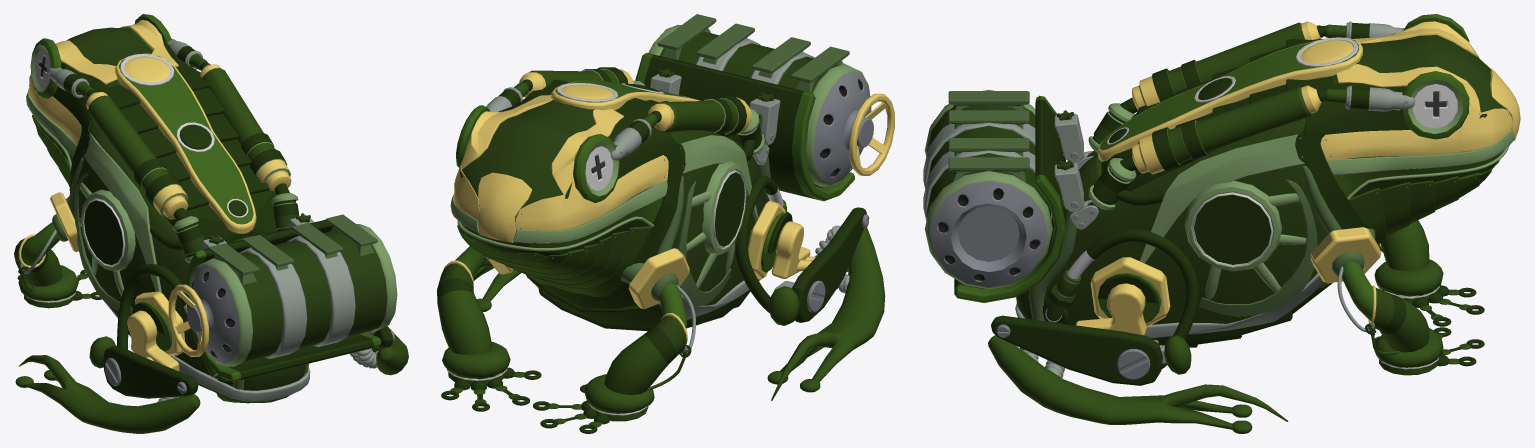
The model's file is Frog.fbx.
3 views of the same model, side by side, from view 1: azimuth 30°, elevation 25°; view 2: azimuth 150°, elevation 25°; view 3: azimuth 270°, elevation 25° (orthographic). The views are drawn at different scales.
Parts seen in each view (by area): view 1: Cube.001, Cube, Cylinder.006, Plane.002, Plane.003, Plane.001, Cube.029, Cube.002, Plane.012, Cube.004, Plane, Cube.016 (+27 smaller); view 2: Cube, Cube.001, Cube.002, Cylinder.001, Plane.001, Plane.005, Cube.009, Cylinder.006, Plane.012, Plane.011, Cube.012, Cube.015 (+30 smaller); view 3: Cube, Cube.001, Cylinder.006, Plane.001, Cube.004, Plane.002, Plane, Cube.012, Plane.012, Cube.009, Cube.016, Cube.002 (+34 smaller).
Part boxes in pixels (x1,y1,x2,y2): Cube.001: [187, 224, 397, 366]; Cube: [35, 27, 305, 390]; Cylinder.006: [86, 64, 291, 219]; Plane.002: [115, 53, 256, 233]; Plane.003: [99, 69, 277, 241]; Plane.001: [15, 326, 408, 433]; Cube.029: [239, 236, 355, 358]; Cube.002: [185, 219, 381, 381]; Plane.012: [208, 214, 377, 284]; Cube.004: [81, 189, 135, 271]; Plane: [103, 326, 392, 398]; Cube.016: [83, 133, 161, 292]; Cube: [459, 99, 764, 305]; Cube.001: [648, 24, 873, 186]; Cube.002: [635, 53, 854, 201]; Cylinder.001: [437, 263, 686, 394]; Plane.001: [473, 227, 885, 400]; Plane.005: [457, 225, 651, 297]; Cube.009: [454, 155, 668, 230]; Cylinder.006: [519, 67, 751, 136]; Plane.012: [657, 14, 849, 92]; Plane.011: [526, 275, 750, 331]; Cube.012: [498, 97, 685, 266]; Cube.015: [460, 95, 623, 194]; Cube: [1016, 35, 1505, 325]; Cube.001: [924, 90, 1052, 289]; Cylinder.006: [1132, 21, 1321, 174]; Plane.001: [988, 335, 1288, 433]; Cube.004: [1184, 180, 1282, 271]; Plane.002: [1097, 37, 1362, 161]; Plane: [991, 315, 1162, 385]; Cube.012: [1295, 33, 1409, 229]; Plane.012: [948, 91, 1029, 181]; Cube.009: [1320, 65, 1512, 160]; Cube.016: [1139, 134, 1304, 263]; Cube.002: [954, 95, 1065, 302].
Size of the model in its own units: 83.05 by 61.53 by 111.
